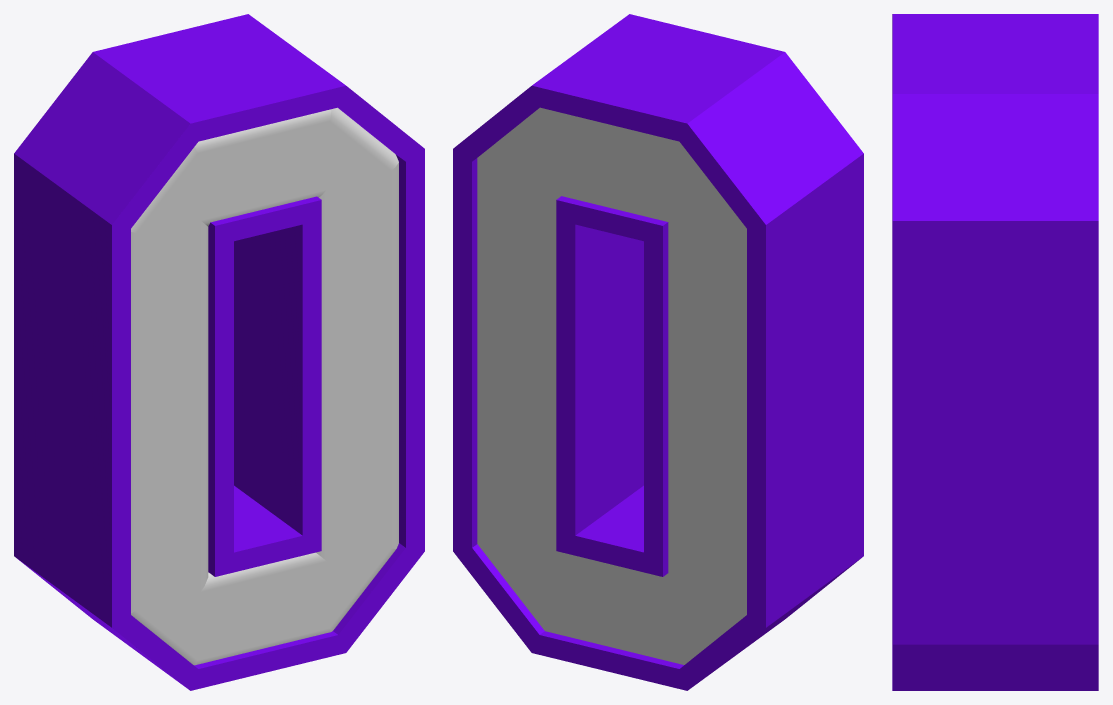
3 renders of one model, left to right at view 1: azimuth 30°, elevation 25°; view 2: azimuth 150°, elevation 25°; view 3: azimuth 270°, elevation 25°, orthographic. The views are drawn at different scales.
Visible parts, largest first — view 1: Extrusion Model.000, Extrusion Model; view 2: Extrusion Model.000, Extrusion Model; view 3: Extrusion Model.000.
Part boxes in pixels (bbox=[...]): Extrusion Model.000: bbox=[14, 14, 424, 690]; Extrusion Model: bbox=[131, 107, 398, 665]; Extrusion Model.000: bbox=[453, 14, 863, 690]; Extrusion Model: bbox=[477, 107, 746, 664]; Extrusion Model.000: bbox=[892, 14, 1098, 690].
Size of the model in its own units: 8.8 by 15.25 by 4.77.
